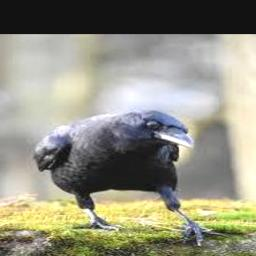Crow: (32, 110, 221, 246)
